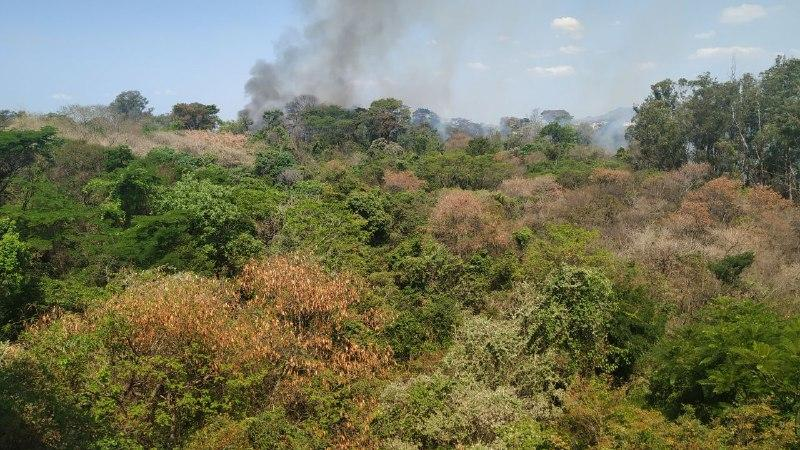smoke: (318, 0, 368, 76), (249, 60, 282, 106)
